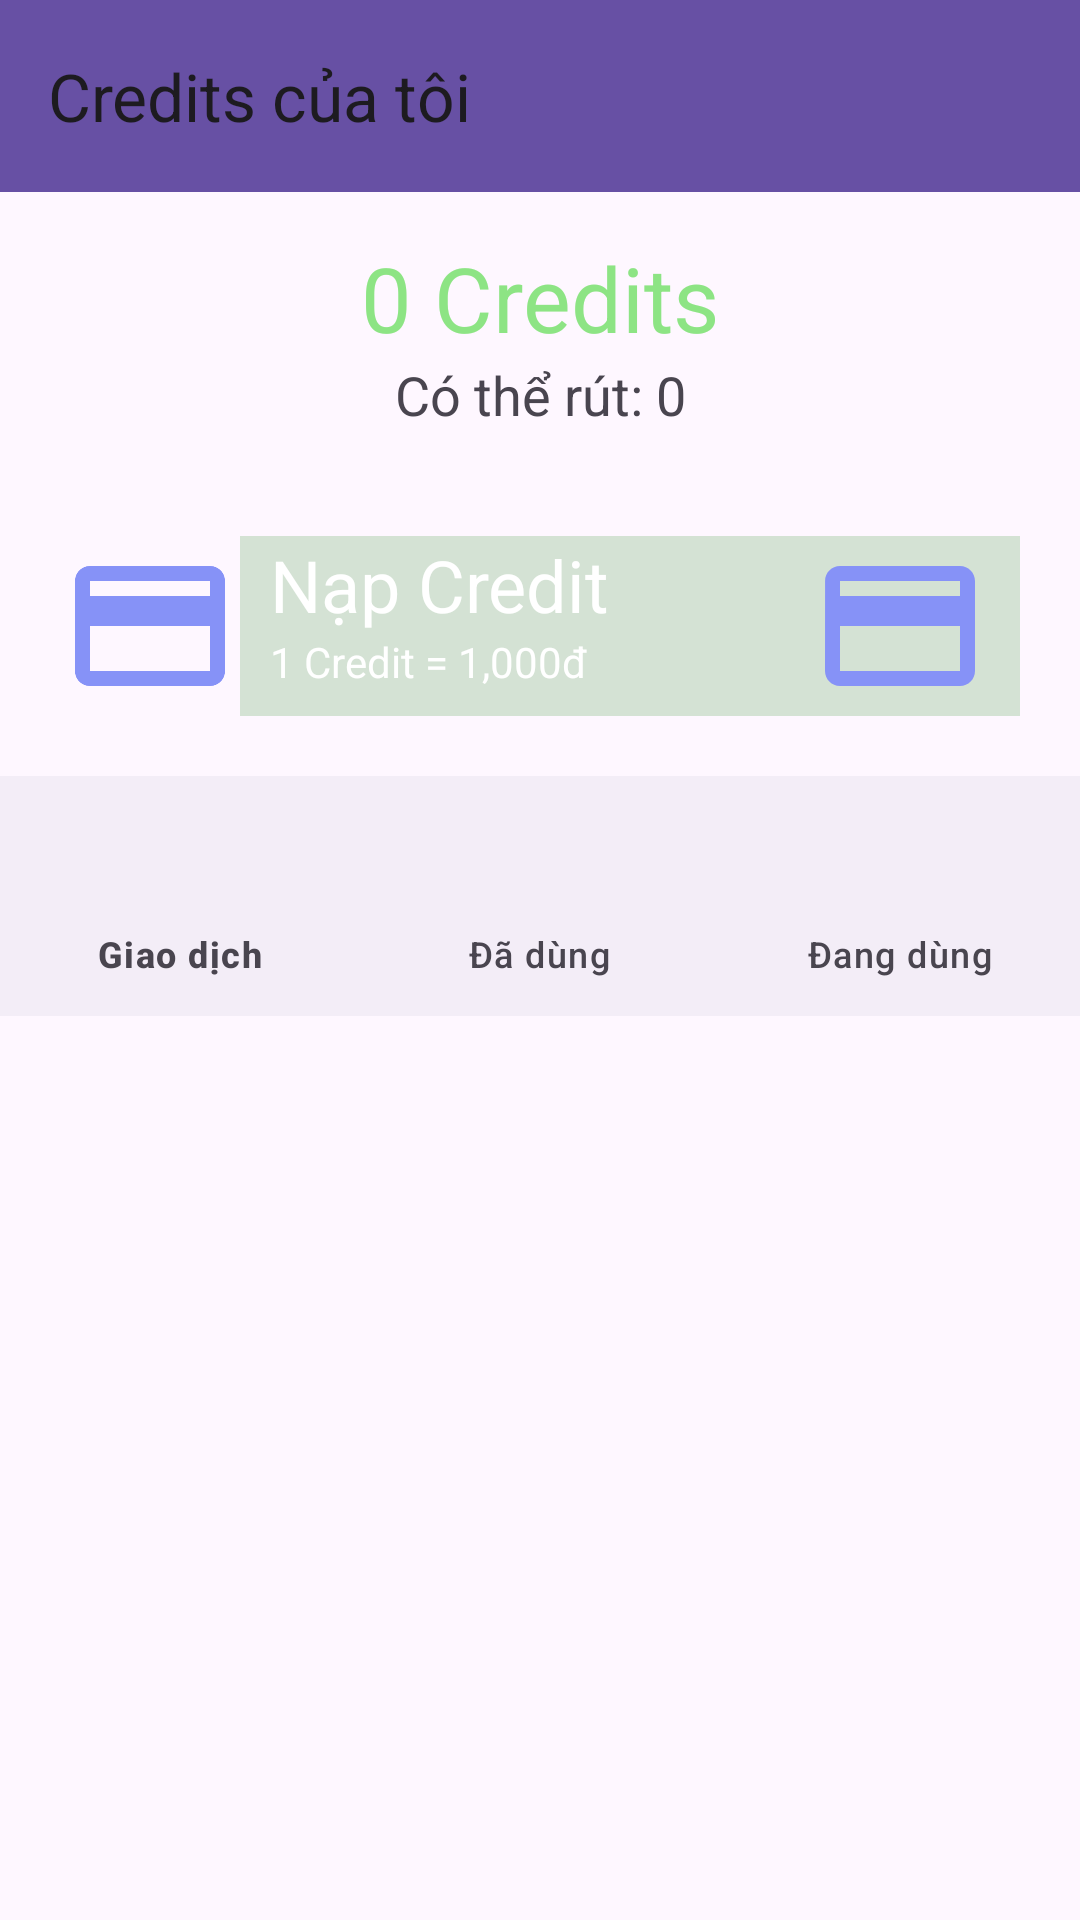

Icon bounding boxes for this 1080px x 1920px phone screenshot, format (x1, y1, x2, y2):
credit card: (75, 566, 225, 686), (825, 566, 975, 686)
